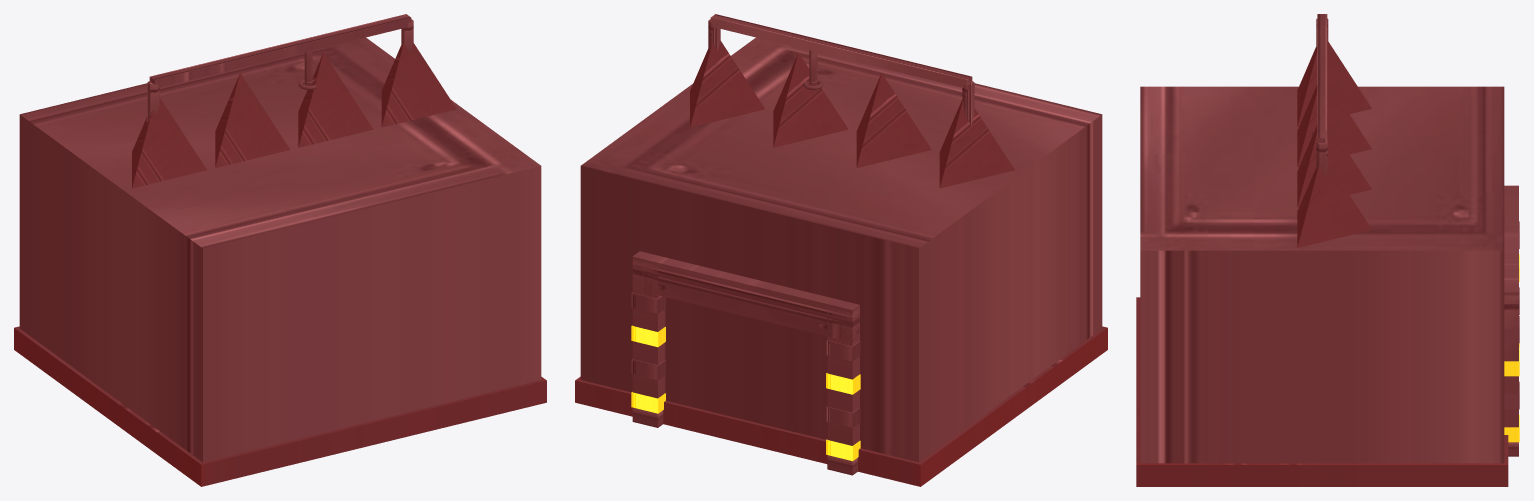
File: crimson_vehicle_assembly.glb
3 renders of one model, left to right at view 1: azimuth 30°, elevation 25°; view 2: azimuth 150°, elevation 25°; view 3: azimuth 270°, elevation 25°, orthographic.
Parts seen in each view (by area): view 1: CrimsonVehicleAssembly; view 2: CrimsonVehicleAssembly; view 3: CrimsonVehicleAssembly.
Part boxes in pixels (<box>): CrimsonVehicleAssembly: <box>14,14,546,486</box>; CrimsonVehicleAssembly: <box>575,14,1107,486</box>; CrimsonVehicleAssembly: <box>1136,14,1519,486</box>.
Bounding box in the file's own units: 4.9 × 4.46 × 4.74.
3 materials, 3 textured.
